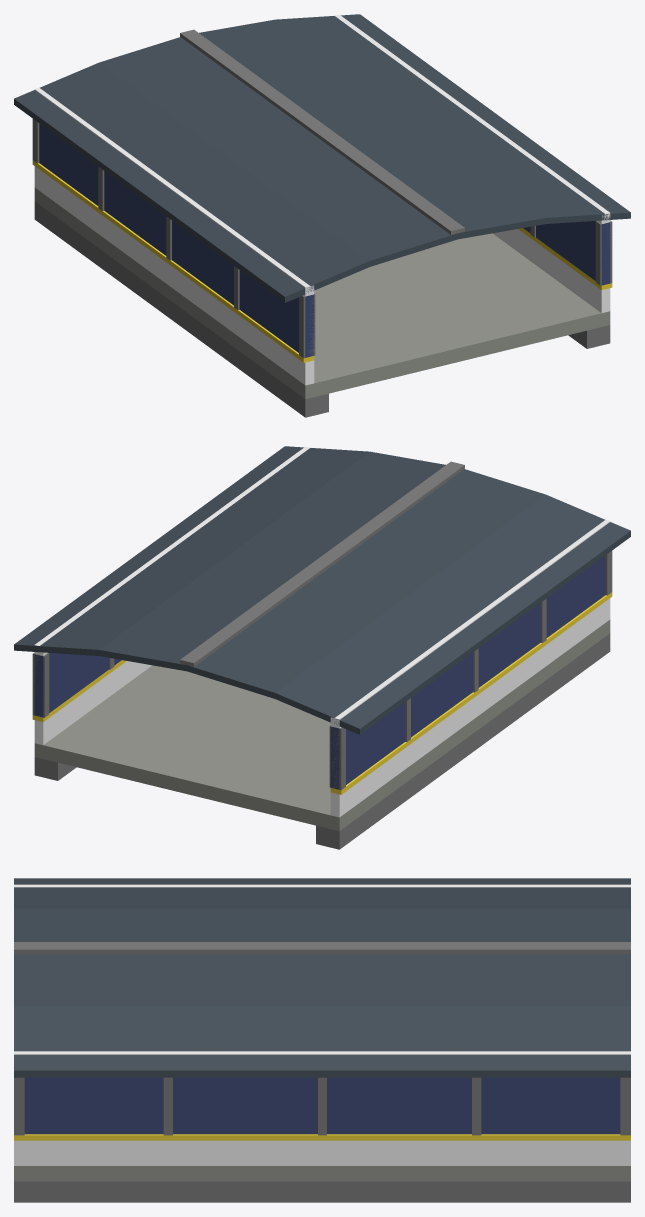
File: body.fbx
3 views of the same model, one above another, from view 1: azimuth 30°, elevation 25°; view 2: azimuth 150°, elevation 25°; view 3: azimuth 270°, elevation 25° (orthographic). The views are drawn at different scales.
Parts seen in each view (by area): view 1: p2003.bridge; view 2: p2003.bridge; view 3: p2003.bridge.
Part boxes in pixels (x1,y1,x2,y2): p2003.bridge: [14, 14, 630, 417]; p2003.bridge: [14, 446, 630, 849]; p2003.bridge: [14, 878, 630, 1202].
Size of the model in its own units: 11.8 by 4.92 by 16.
